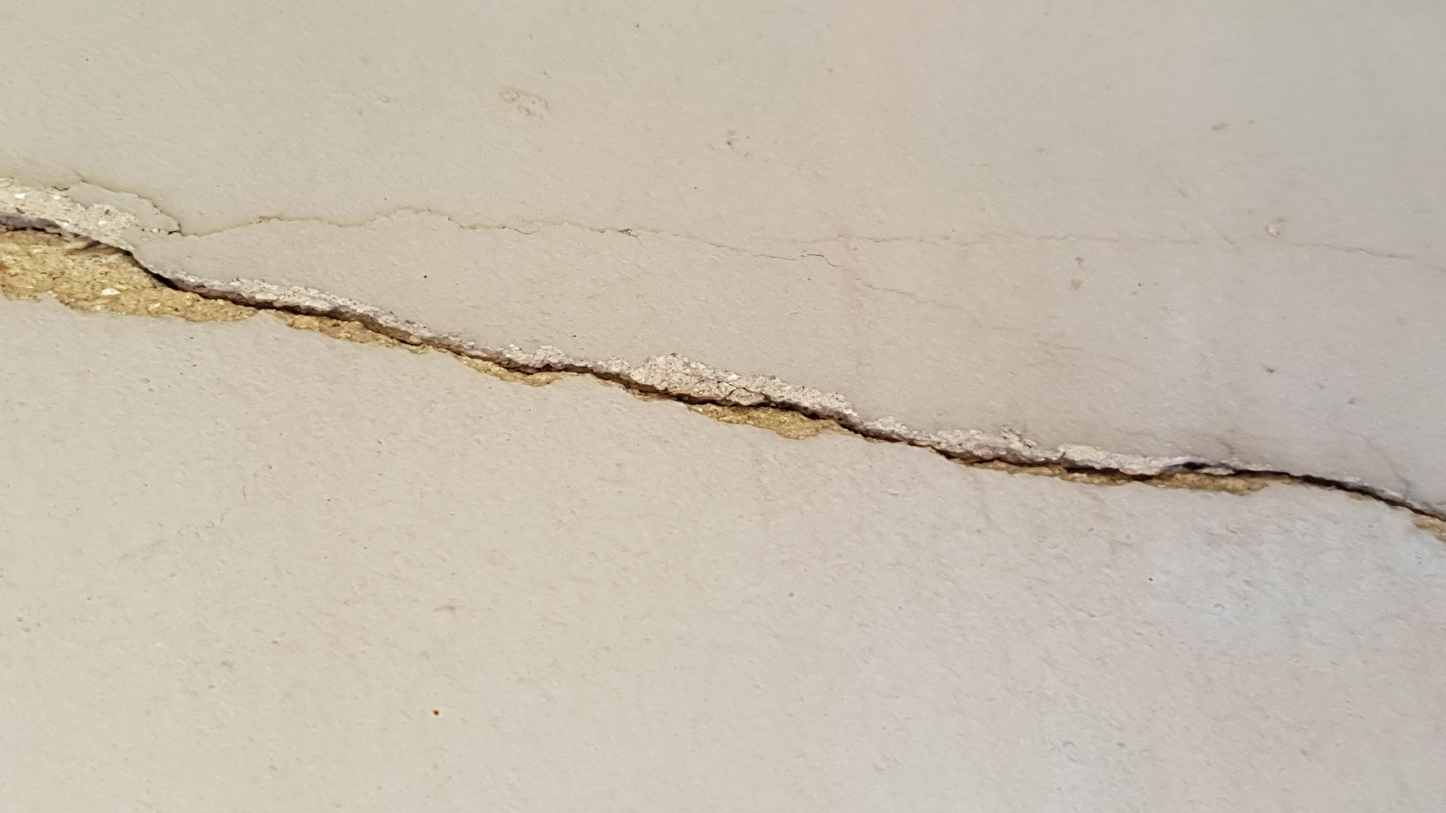crack: (4, 206, 1443, 550)
